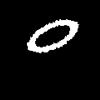chain: (27, 20, 78, 52)
